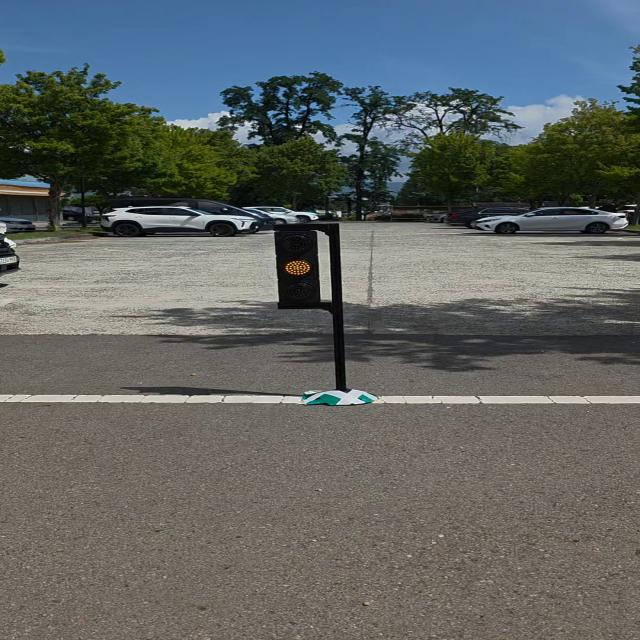yellow: (264, 221, 332, 314)
